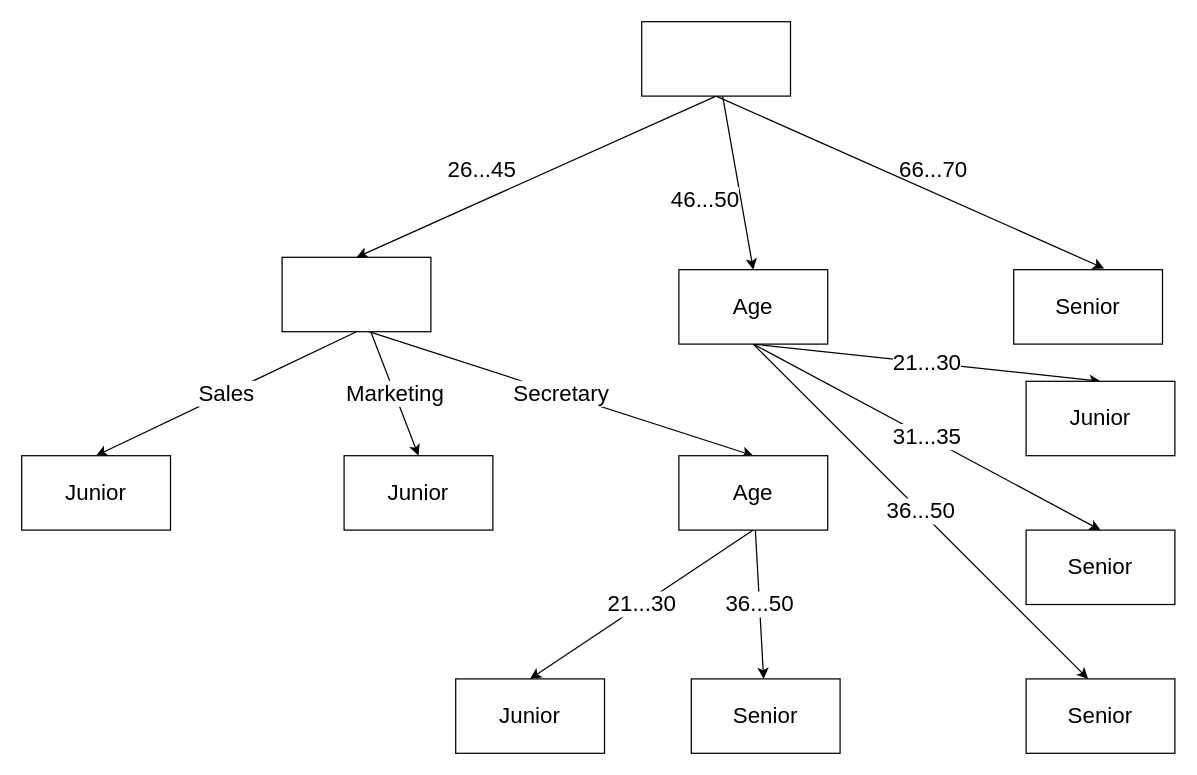
This 1197x775 diagram has some shape labels left out. The shapes that lost their labels are listed below. From the top down, each one's centre as x and y in pixels, then its label:
At [715,58]: "Salary".
At [356,294]: "Department".
